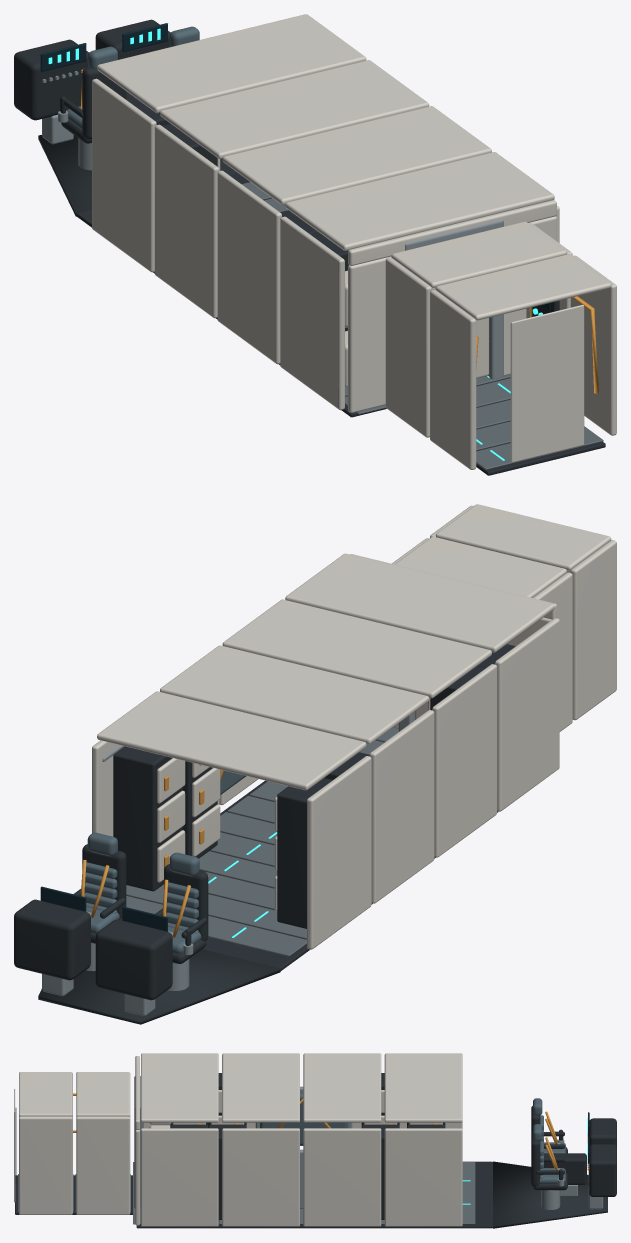
File: spacecraft-interior-lod1.glb
3 views of the same model, one above another, from view 1: azimuth 30°, elevation 25°; view 2: azimuth 150°, elevation 25°; view 3: azimuth 270°, elevation 25° (orthographic). The views are drawn at different scales.
Parts seen in each view (by area): view 1: Ceiling_Interior_Ceramic, Walls_Interior_Ceramic, Furniture_Interior_Graphite, Door_Outer_Liner, Furniture_Interior_Ceramic, Furniture_Interior_Floor, Furniture_Interior_Titanium, Furniture_Interior_Display, Furniture_Interior_Cushion, Door_Inner, Furniture_Interior_Amber; view 2: Ceiling_Interior_Ceramic, Walls_Interior_Ceramic, Furniture_Interior_Graphite, Furniture_Interior_Floor, Furniture_Interior_Ceramic, Furniture_Interior_Cushion, Furniture_Interior_Titanium, Furniture_Interior_Display, Furniture_Interior_Amber; view 3: Walls_Interior_Ceramic, Ceiling_Interior_Ceramic, Furniture_Interior_Graphite, Furniture_Interior_Titanium, Furniture_Interior_Cushion, Furniture_Interior_Ceramic, Furniture_Interior_Floor, Furniture_Interior_Amber.
Boxes of the visible parts, box(x1,y1,x2,y2) form: Ceiling_Interior_Ceramic: box(97, 14, 611, 320); Walls_Interior_Ceramic: box(92, 78, 616, 469); Furniture_Interior_Graphite: box(14, 19, 605, 475); Door_Outer_Liner: box(510, 304, 584, 462); Furniture_Interior_Ceramic: box(217, 158, 556, 412); Furniture_Interior_Floor: box(241, 182, 603, 469); Furniture_Interior_Titanium: box(42, 71, 503, 379); Furniture_Interior_Display: box(40, 23, 550, 310); Furniture_Interior_Cushion: box(66, 26, 199, 129); Door_Inner: box(432, 287, 488, 379); Furniture_Interior_Amber: box(80, 68, 598, 393); Ceiling_Interior_Ceramic: box(97, 504, 611, 790); Walls_Interior_Ceramic: box(92, 505, 616, 949); Furniture_Interior_Graphite: box(14, 644, 515, 1024); Furniture_Interior_Floor: box(126, 728, 398, 956); Furniture_Interior_Ceramic: box(157, 554, 556, 911); Furniture_Interior_Cushion: box(84, 770, 246, 953); Furniture_Interior_Titanium: box(42, 712, 414, 1015); Furniture_Interior_Display: box(40, 886, 167, 931); Furniture_Interior_Amber: box(81, 764, 223, 937); Walls_Interior_Ceramic: box(19, 1116, 462, 1226); Ceiling_Interior_Ceramic: box(19, 1053, 462, 1122); Furniture_Interior_Graphite: box(15, 1073, 616, 1228); Furniture_Interior_Titanium: box(134, 1076, 603, 1209); Furniture_Interior_Cushion: box(260, 1093, 565, 1183); Furniture_Interior_Ceramic: box(135, 1056, 442, 1225); Furniture_Interior_Floor: box(18, 1162, 475, 1224); Furniture_Interior_Amber: box(73, 1093, 589, 1170).
Bounding box in the file's own units: 3.46 × 2.55 × 12.61.
